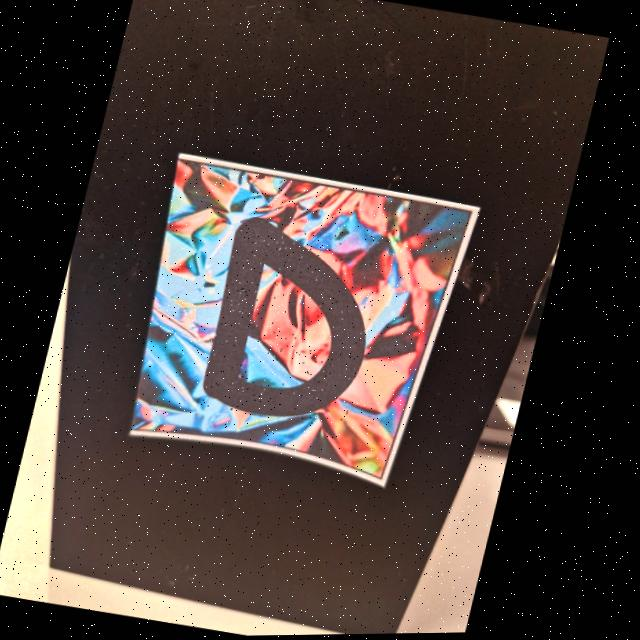D: (209, 218, 369, 417)
